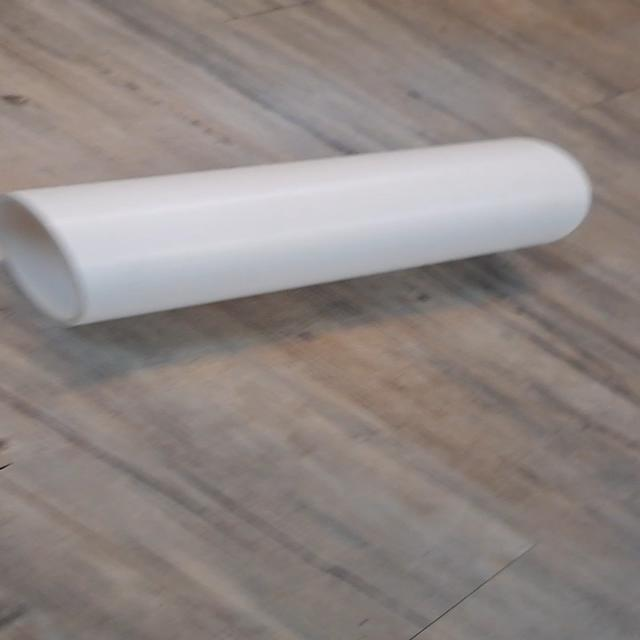CORAL: (0, 132, 610, 330)
